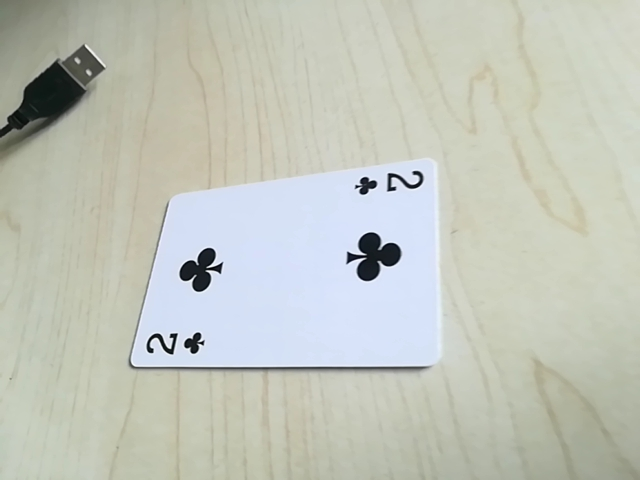mh 2: (351, 163, 427, 201), (137, 328, 208, 362)
